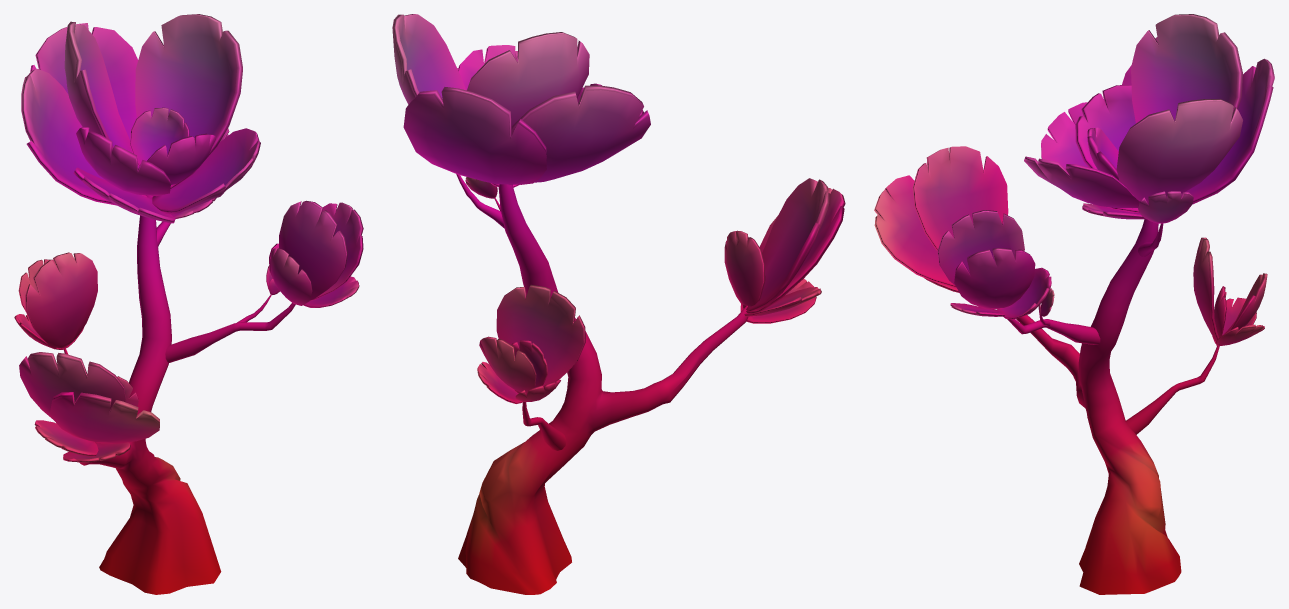
File: tree_spore_1_GEO.fbx
3 views of the same model, side by side, from view 1: azimuth 30°, elevation 25°; view 2: azimuth 150°, elevation 25°; view 3: azimuth 270°, elevation 25° (orthographic). The views are drawn at different scales.
Visible parts, largest first — view 1: tree_spore_1_LOD0; view 2: tree_spore_1_LOD0; view 3: tree_spore_1_LOD0.
Part boxes in pixels (x1=…): tree_spore_1_LOD0: x1=14, y1=14, x2=363, y2=594; tree_spore_1_LOD0: x1=392, y1=14, x2=845, y2=594; tree_spore_1_LOD0: x1=874, y1=14, x2=1274, y2=594.
Size of what is drawn, in the model's own units: 2.77 by 4.23 by 2.9.
